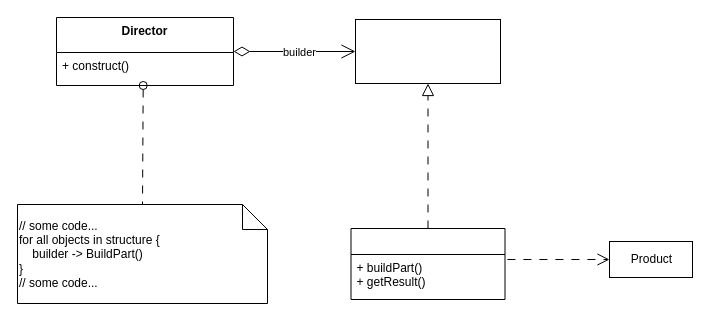
The diagram is 710 pixels wide and 321 high, and some of its shapes have lost their labels. Each missing label, with the box of its shape:
<<Interface>> Builder + buildPart(): (354, 18, 500, 84)
ConcreteBuilder: (350, 228, 505, 300)
